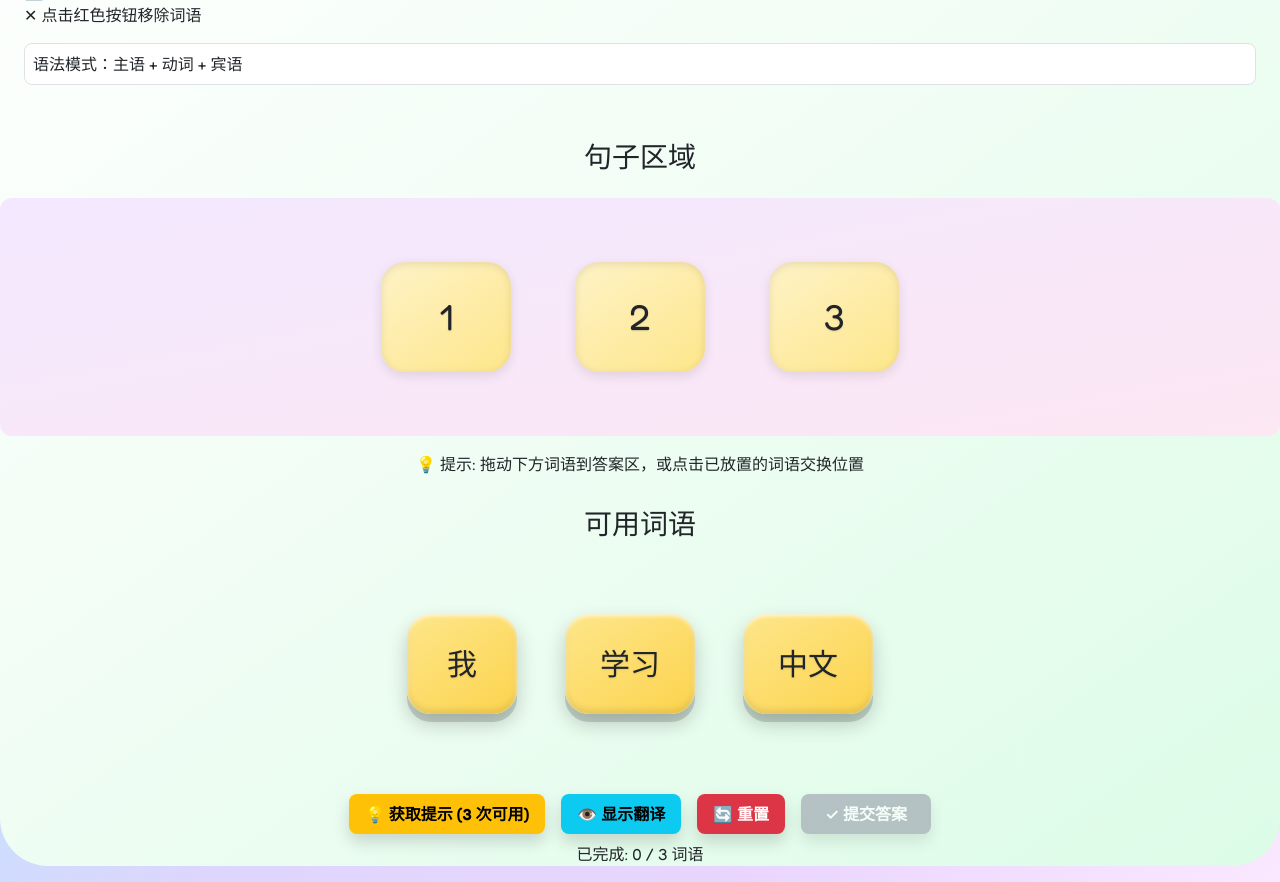
it: SentenceGame Integration Tests › Translation Functionality › should toggle translation display when button clicked
(page scrolled)
Click to show translation
Click the button "👁️ 显示翻译" at point(621, 814), box [561, 794, 681, 834]
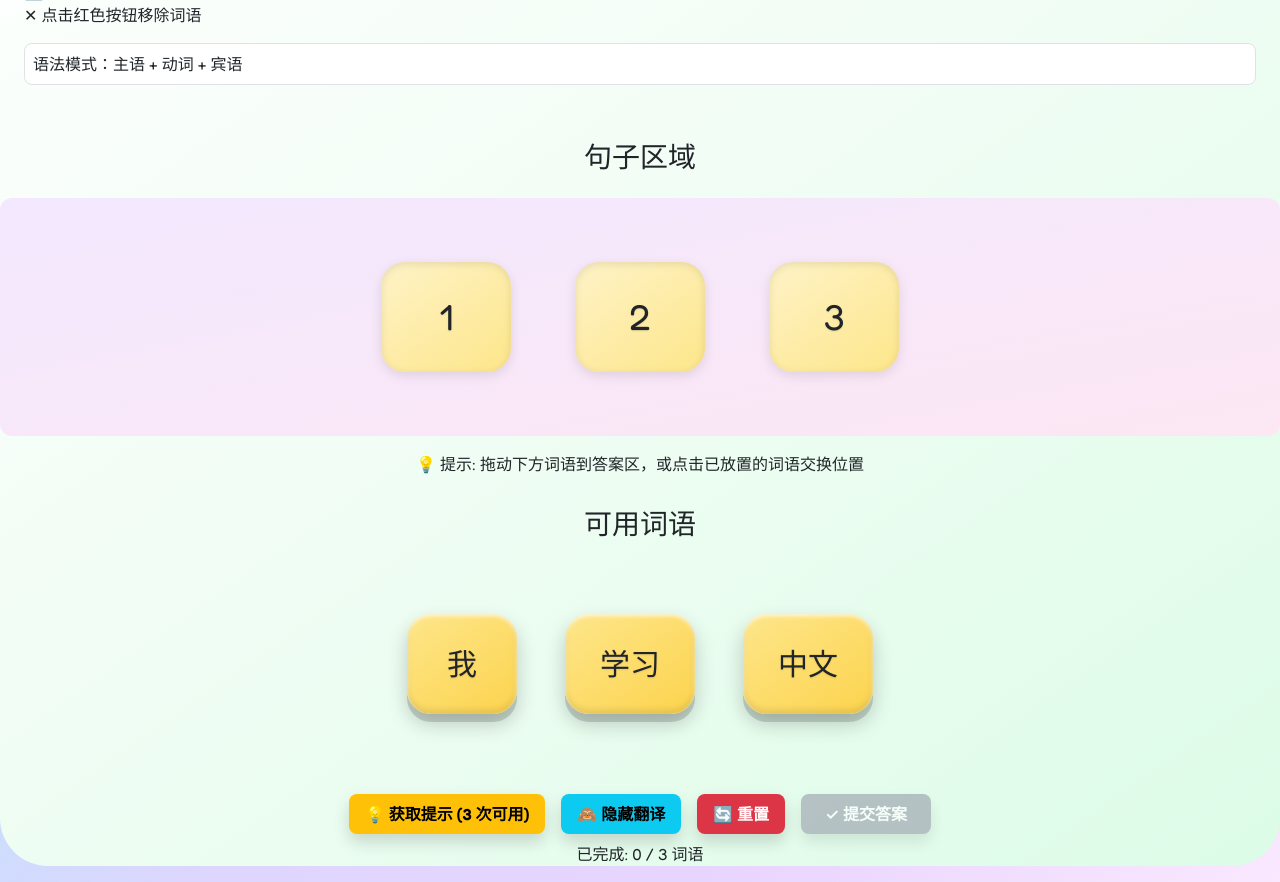
Result: the button "🙈 隐藏翻译" is shown
Click again to hide
Click the button "🙈 隐藏翻译" at point(621, 814), box [561, 794, 681, 834]
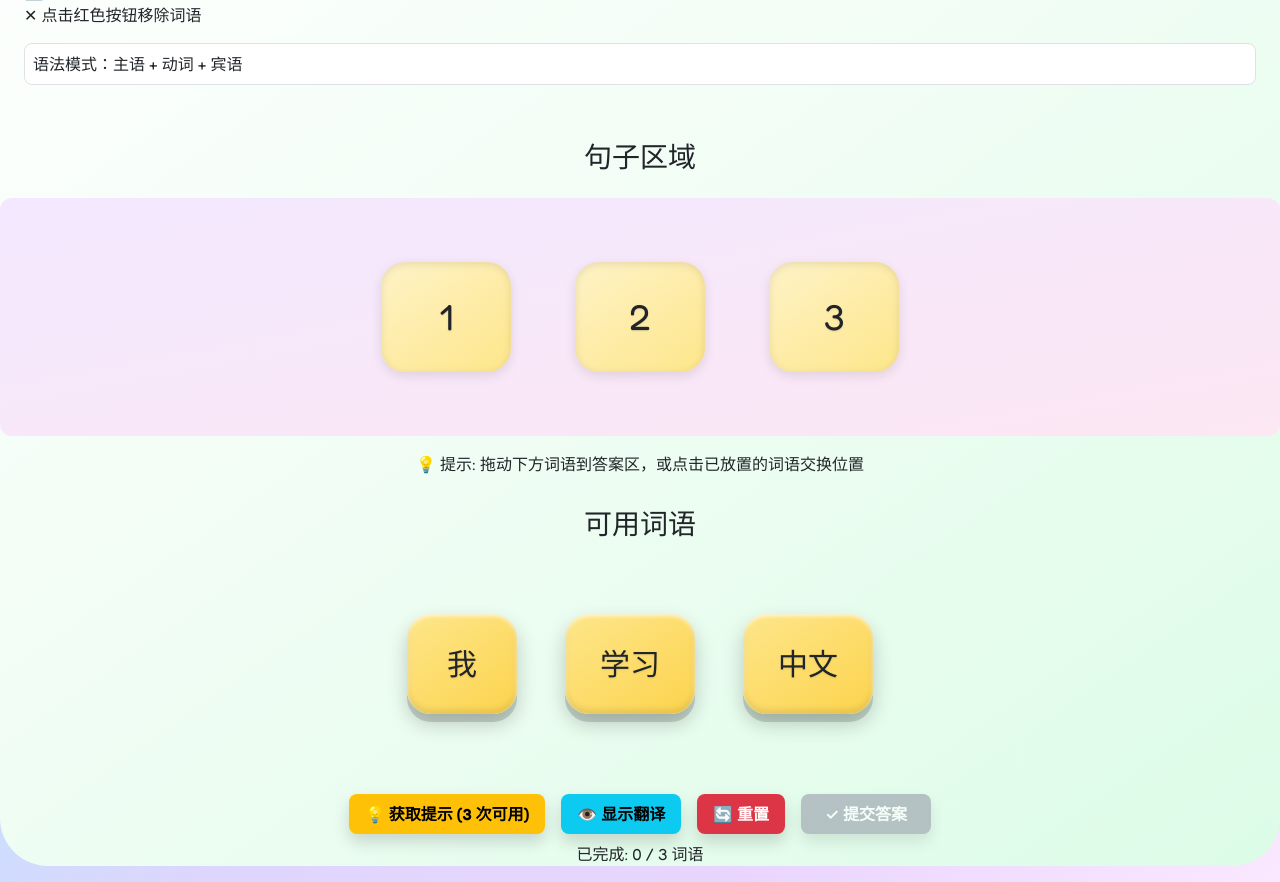
Result: the button "👁️ 显示翻译" is shown at [561, 794, 681, 834]
